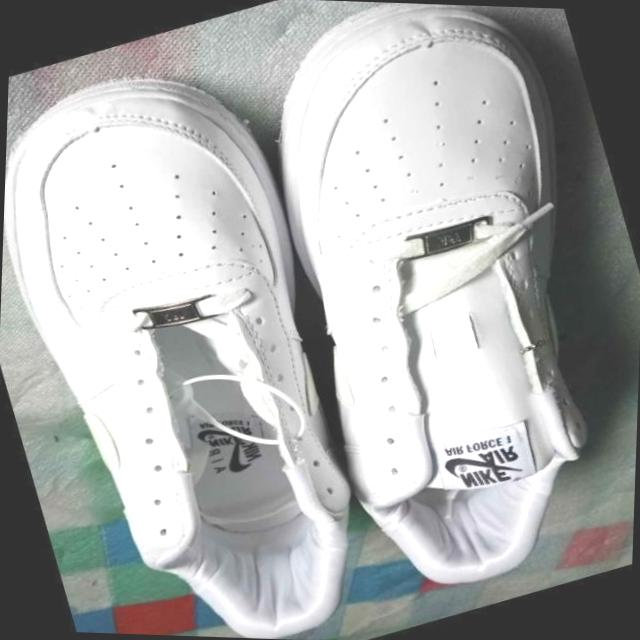nike_fake_airforce: (199, 0, 640, 620), (0, 32, 418, 640), (255, 134, 640, 631)
